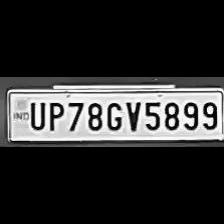5: (141, 97, 161, 131)
7: (63, 98, 83, 132)
8: (84, 98, 104, 132), (160, 98, 180, 132)
9: (199, 97, 219, 130), (180, 98, 198, 130)
G: (104, 98, 124, 132)
P: (44, 98, 64, 132)
U: (26, 98, 46, 130)
V: (123, 97, 141, 131)
